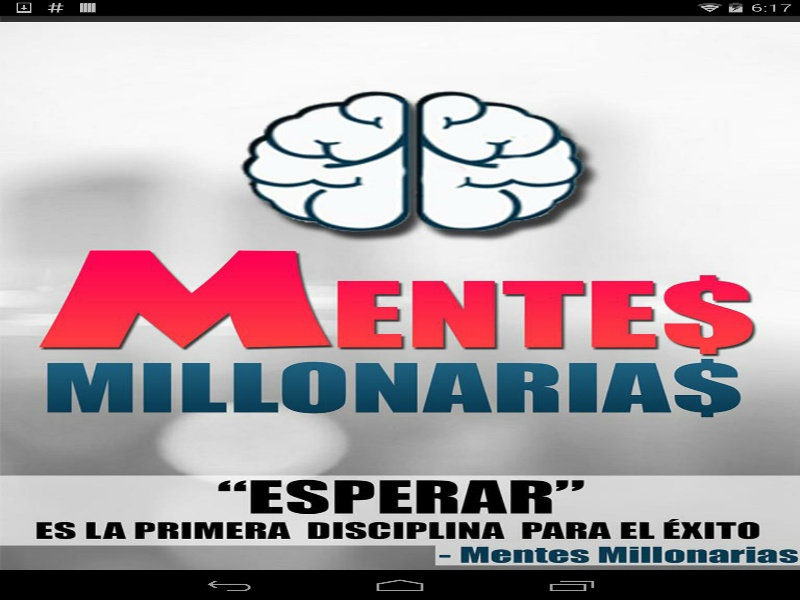Button: (20, 453, 780, 478), (20, 488, 780, 513), (20, 522, 780, 547)
Input: (20, 385, 780, 410), (20, 419, 780, 444)
